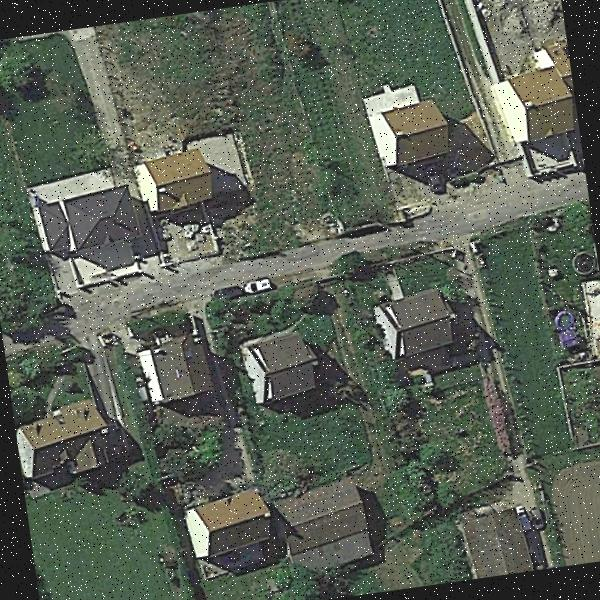Buildings: (498, 41, 580, 146), (16, 400, 117, 481), (28, 190, 136, 256), (372, 296, 450, 366), (277, 494, 360, 556), (184, 495, 266, 557), (237, 342, 307, 400), (376, 110, 442, 168), (464, 516, 523, 579), (135, 347, 203, 399), (144, 160, 202, 214)
